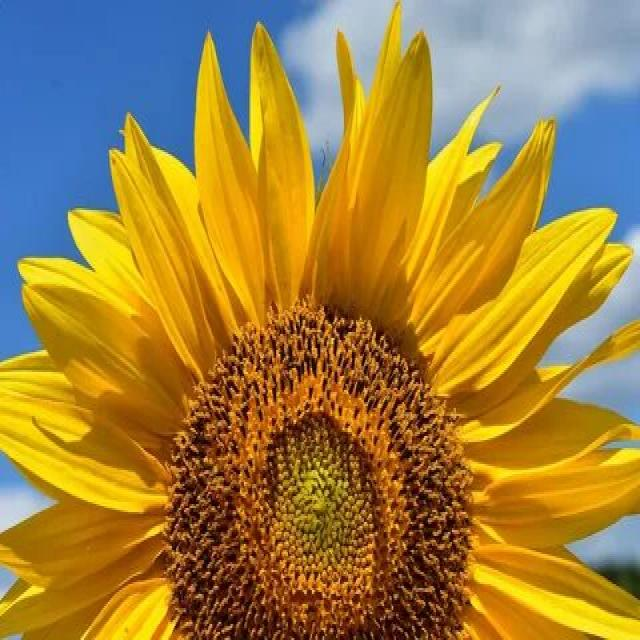sunflower: (1, 10, 640, 640)
